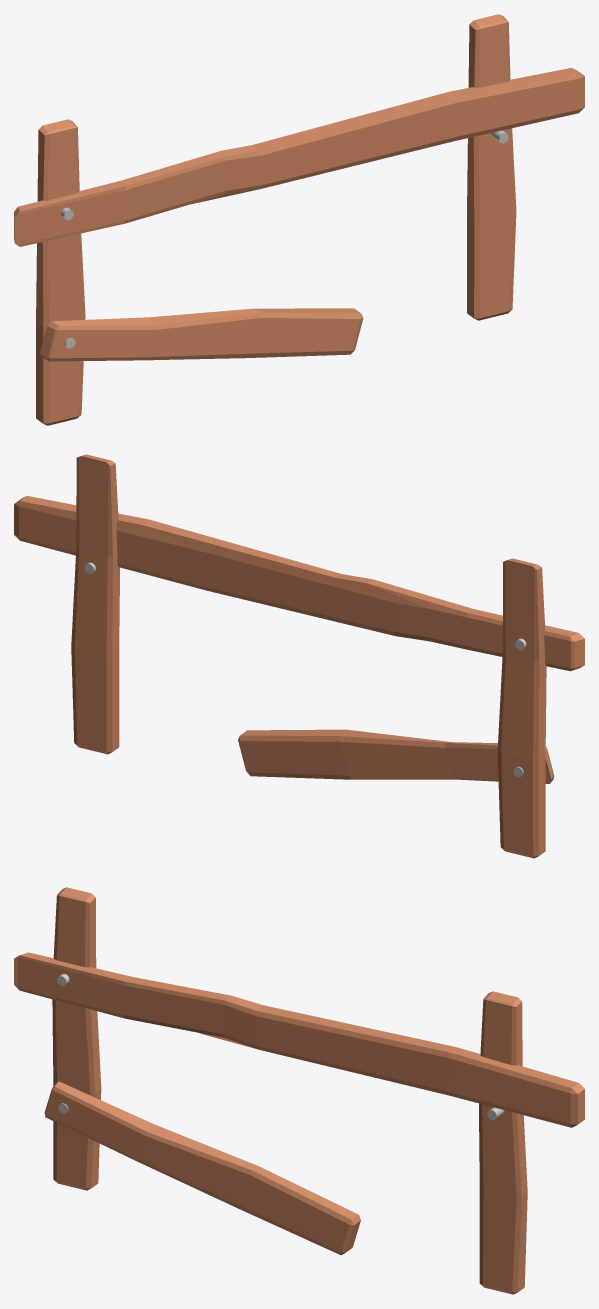
File: Blender_fence_v3.fbx
3 views of the same model, one above another, from view 1: azimuth 30°, elevation 25°; view 2: azimuth 150°, elevation 25°; view 3: azimuth 330°, elevation 25° (orthographic).
Parts seen in each view (by area): view 1: Fence.002; view 2: Fence.002; view 3: Fence.002.
Part boxes in pixels (box(x1,y1,x2,y2)): Fence.002: box(14, 14, 584, 425); Fence.002: box(14, 454, 584, 858); Fence.002: box(14, 887, 584, 1294).
Size of the model in its own units: 458 by 226 by 25.56.
